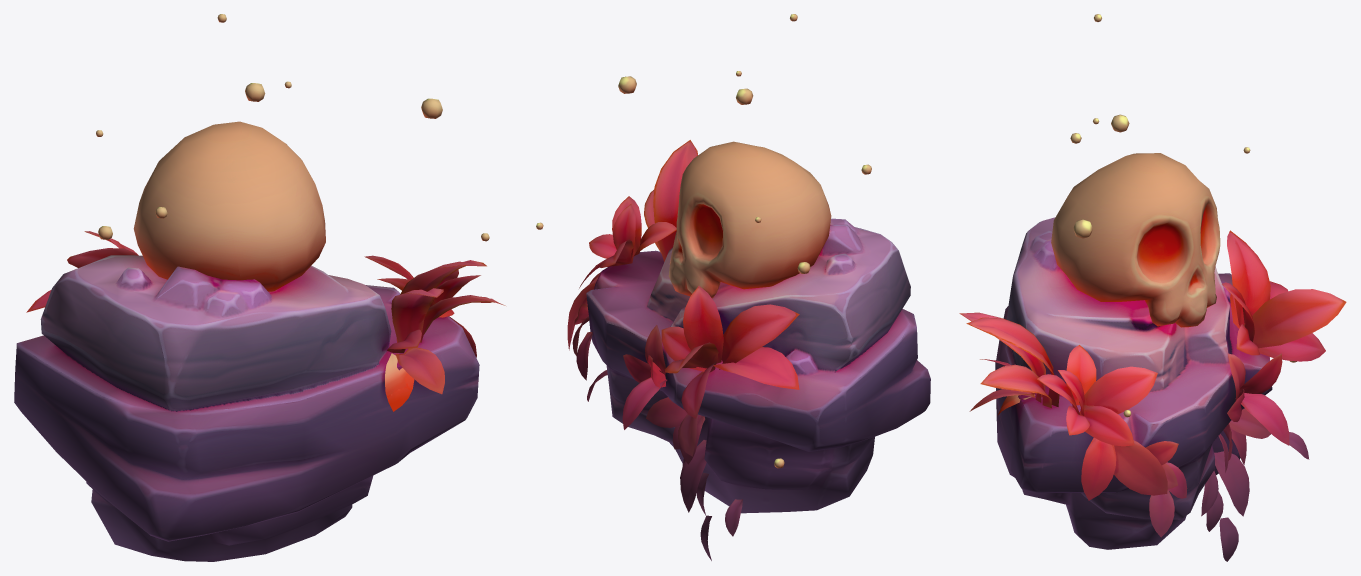
File: SketchfabExport.fbx
3 views of the same model, side by side, from view 1: azimuth 30°, elevation 25°; view 2: azimuth 150°, elevation 25°; view 3: azimuth 270°, elevation 25° (orthographic). The views are drawn at different scales.
Visible parts, largest first — view 1: Rock_LP, Skull_LP, Grass_12_LP, Grass_36_LP, Grass_37_LP, Grass_11_LP, Grass_13_LP, Grass_05_LP; view 2: Rock_LP, Skull_LP, Grass_05_LP, Grass_11_LP, Grass_10_LP, Grass_03_LP, Grass_26_LP, Grass_09_LP, Grass_02_LP, Grass_27_LP, Grass_01_LP, Grass_04_LP (+9 smaller); view 3: Rock_LP, Skull_LP, Grass_02_LP, Grass_05_LP, Grass_15_LP, Grass_29_LP, Grass_11_LP, Grass_28_LP, Grass_14_LP, Grass_13_LP, Grass_26_LP, Grass_09_LP (+12 smaller).
Part boxes in pixels (left/top/right/bottom): Rock_LP: left=14, top=255, right=479, bottom=561; Skull_LP: left=133, top=121, right=325, bottom=291; Grass_12_LP: left=391, top=288, right=443, bottom=342; Grass_36_LP: left=395, top=347, right=444, bottom=394; Grass_37_LP: left=385, top=353, right=414, bottom=411; Grass_11_LP: left=396, top=260, right=486, bottom=342; Grass_13_LP: left=420, top=296, right=505, bottom=342; Grass_05_LP: left=67, top=248, right=137, bottom=267; Rock_LP: left=586, top=218, right=930, bottom=513; Skull_LP: left=668, top=141, right=831, bottom=298; Grass_05_LP: left=719, top=304, right=799, bottom=369; Grass_11_LP: left=653, top=140, right=697, bottom=261; Grass_10_LP: left=713, top=347, right=799, bottom=389; Grass_03_LP: left=683, top=286, right=723, bottom=363; Grass_26_LP: left=680, top=440, right=706, bottom=512; Grass_09_LP: left=622, top=377, right=667, bottom=429; Grass_02_LP: left=664, top=342, right=718, bottom=373; Grass_27_LP: left=646, top=397, right=687, bottom=427; Grass_01_LP: left=681, top=361, right=716, bottom=418; Grass_04_LP: left=661, top=326, right=706, bottom=371; Rock_LP: left=995, top=217, right=1272, bottom=549; Skull_LP: left=1051, top=153, right=1220, bottom=327; Grass_02_LP: left=1243, top=289, right=1346, bottom=348; Grass_05_LP: left=1227, top=230, right=1270, bottom=326; Grass_15_LP: left=1079, top=366, right=1157, bottom=413; Grass_29_LP: left=1113, top=440, right=1167, bottom=495; Grass_11_LP: left=966, top=317, right=1059, bottom=406; Grass_28_LP: left=1081, top=437, right=1116, bottom=500; Grass_14_LP: left=1078, top=405, right=1134, bottom=446; Grass_13_LP: left=980, top=364, right=1051, bottom=408; Grass_26_LP: left=1214, top=451, right=1249, bottom=516; Grass_09_LP: left=1235, top=393, right=1289, bottom=445.
Bounding box in the file's own units: 152 × 206 × 135.
